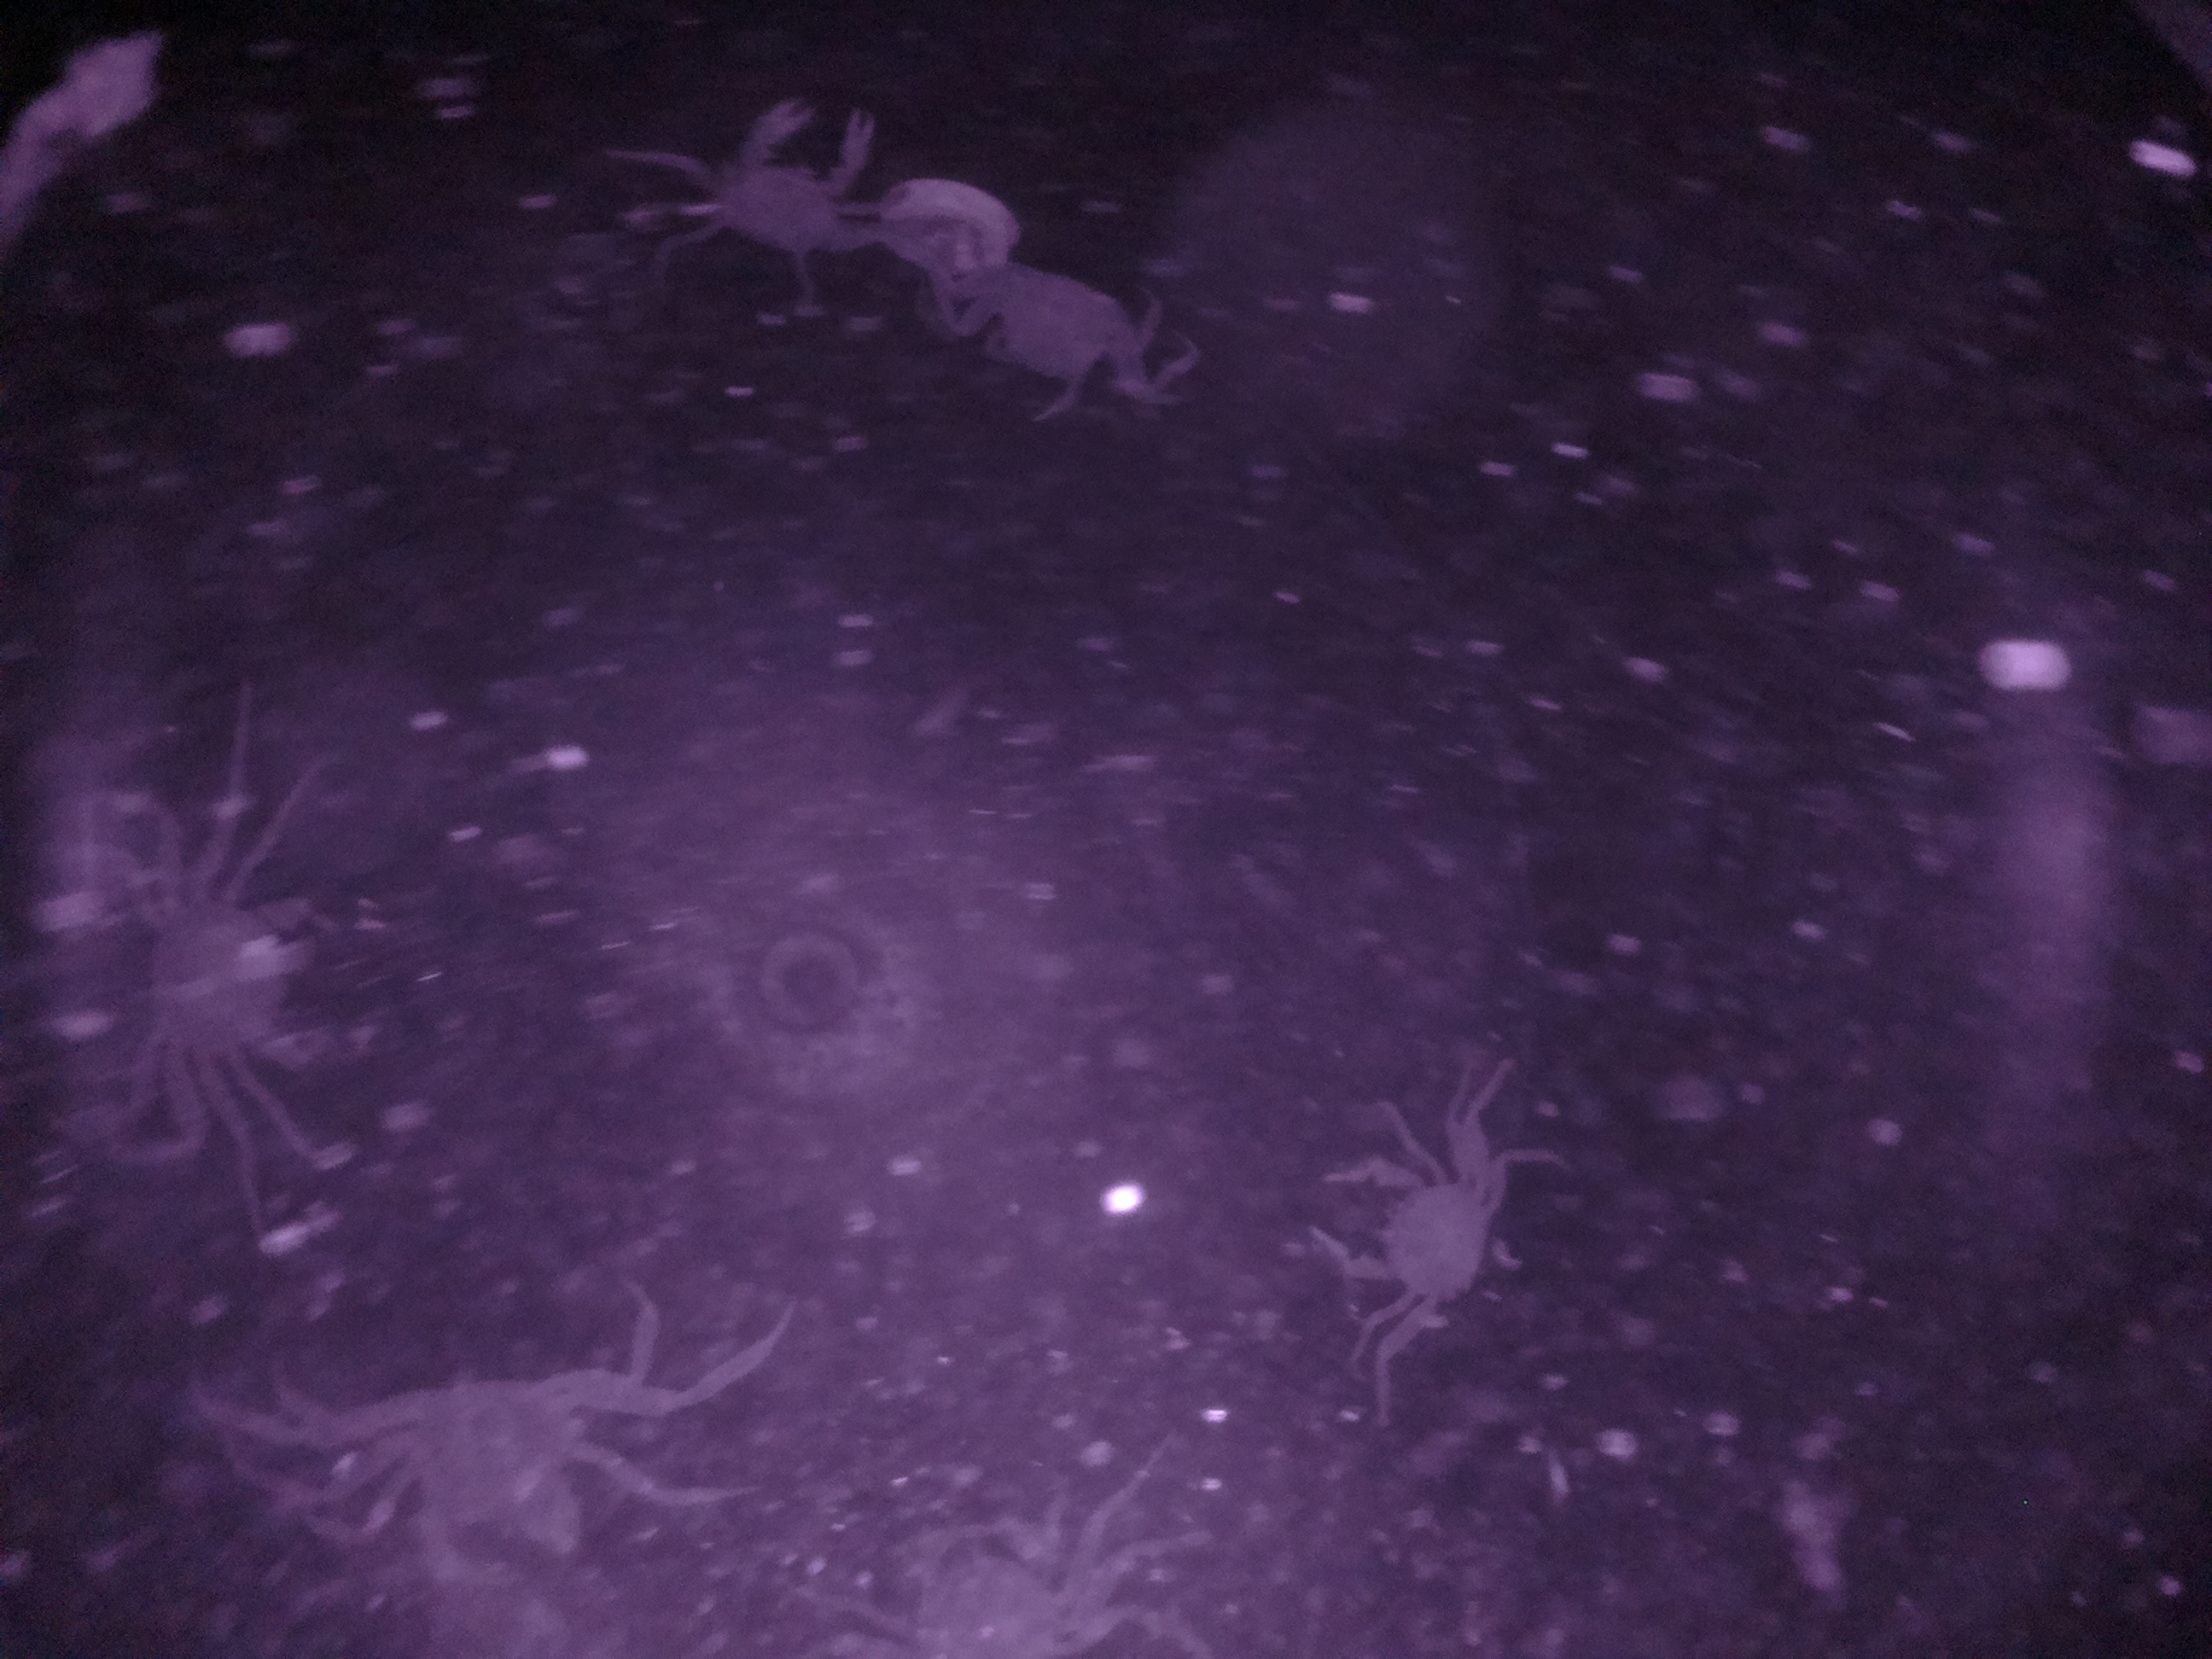Crab: (1292, 1121, 1521, 1340), (681, 68, 897, 284)
